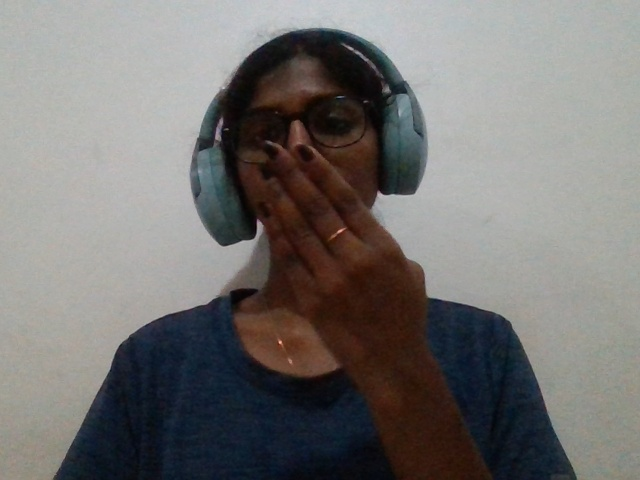Thanks: (205, 93, 463, 404)
